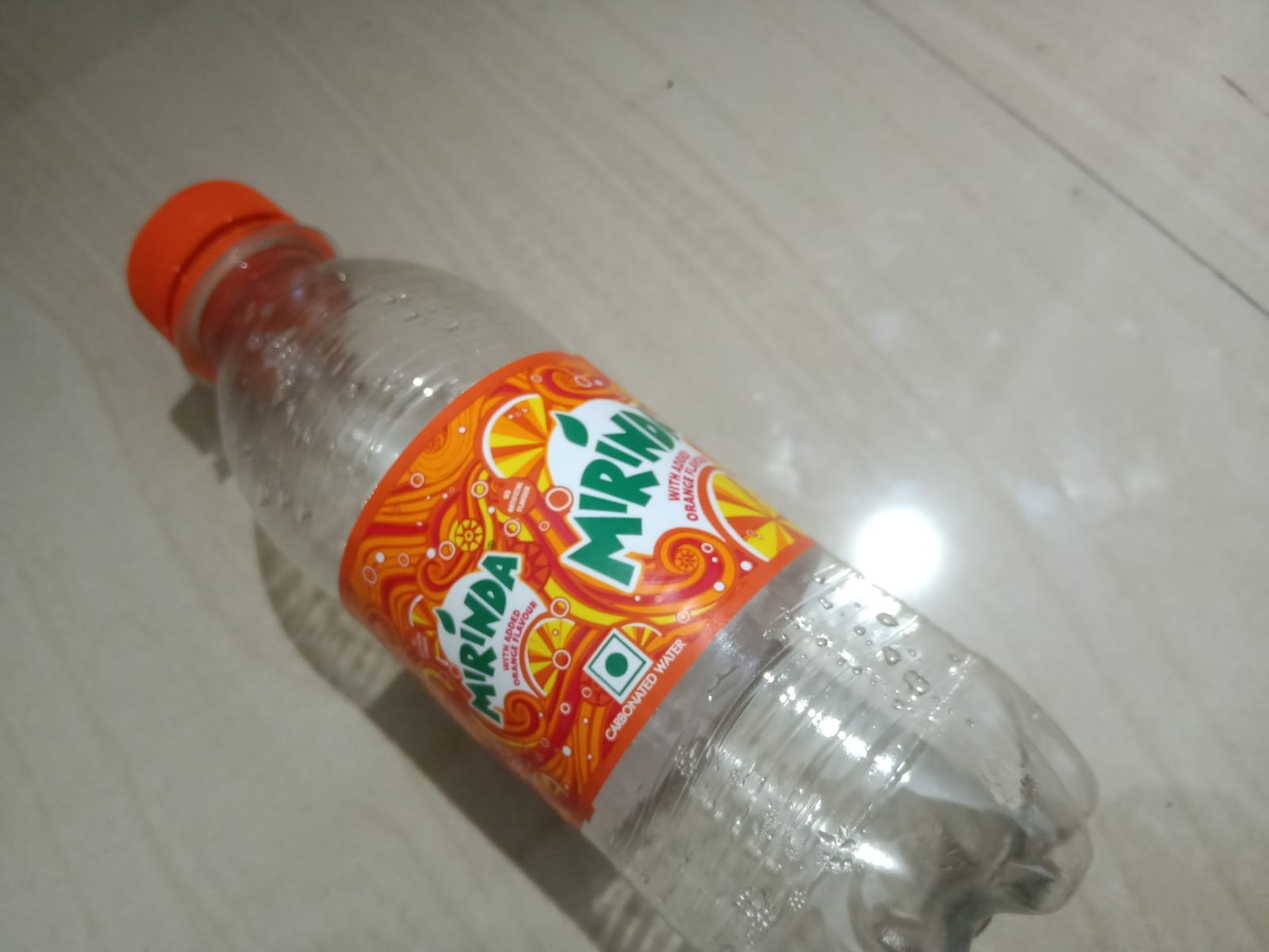plastic: (62, 179, 1257, 948)
